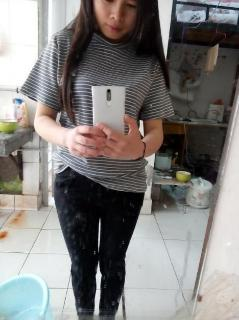short sleeve top: (20, 24, 175, 193)
trousers: (54, 157, 145, 319)
